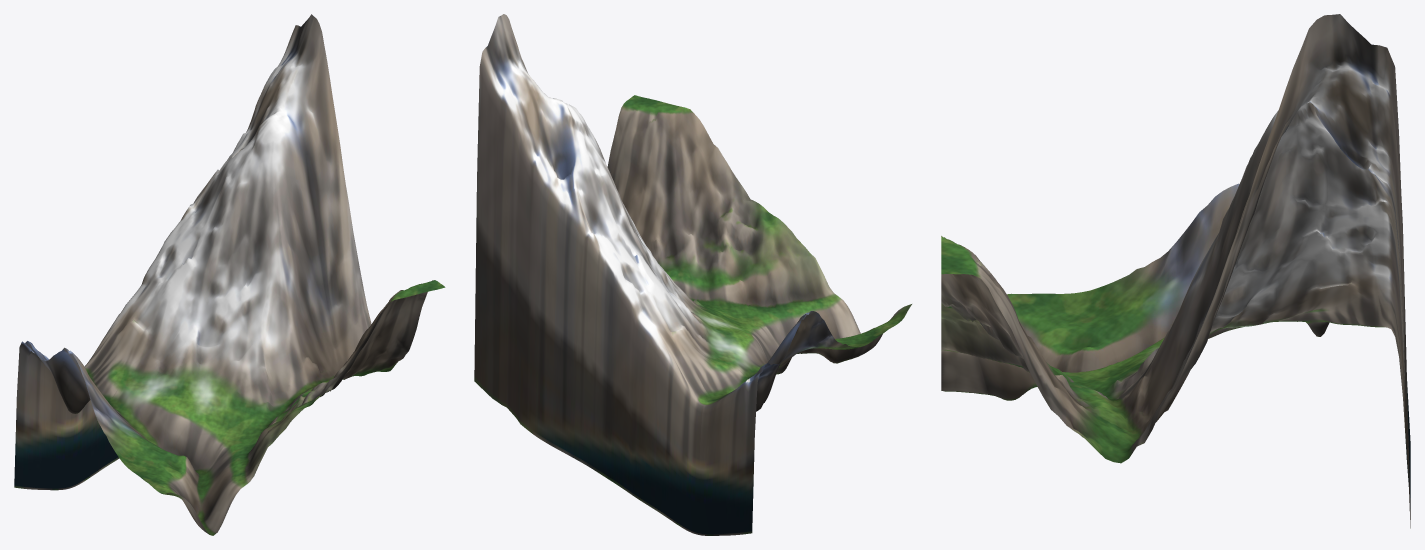
3 views of the same model, side by side, from view 1: azimuth 30°, elevation 25°; view 2: azimuth 150°, elevation 25°; view 3: azimuth 270°, elevation 25° (orthographic). The views are drawn at different scales.
Parts seen in each view (by area): view 1: t064_192; view 2: t064_192; view 3: t064_192.
Part boxes in pixels (x1,y1,x2,y2): t064_192: [14, 14, 445, 535]; t064_192: [474, 14, 911, 535]; t064_192: [941, 14, 1410, 528].
Bounding box in the file's own units: 64 × 98.08 × 64.
Materials: 1 (1 with a texture image).
